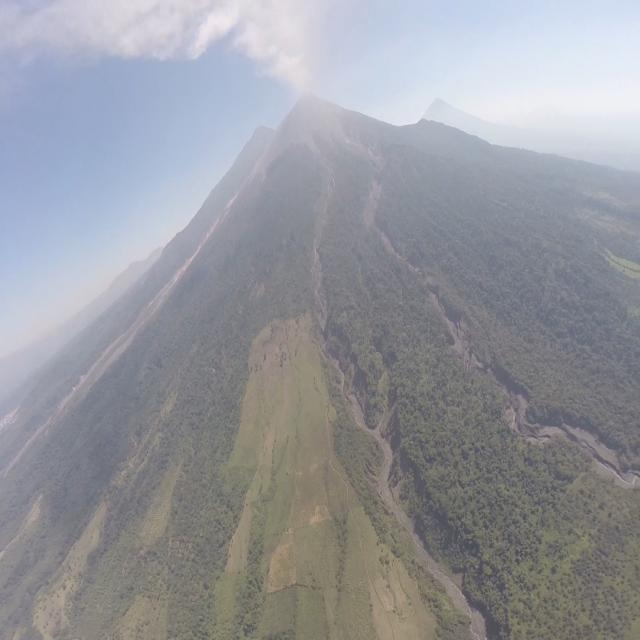Plume: (212, 0, 324, 81)
Summit: (291, 87, 335, 115)
